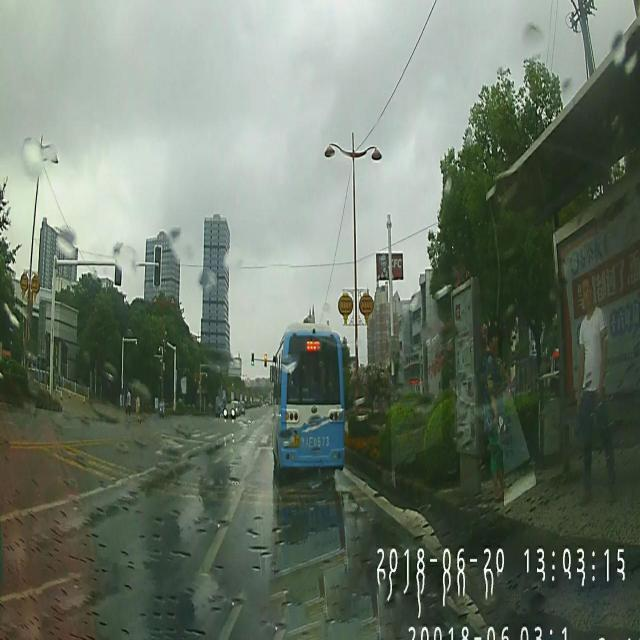car: (223, 402, 236, 420)
